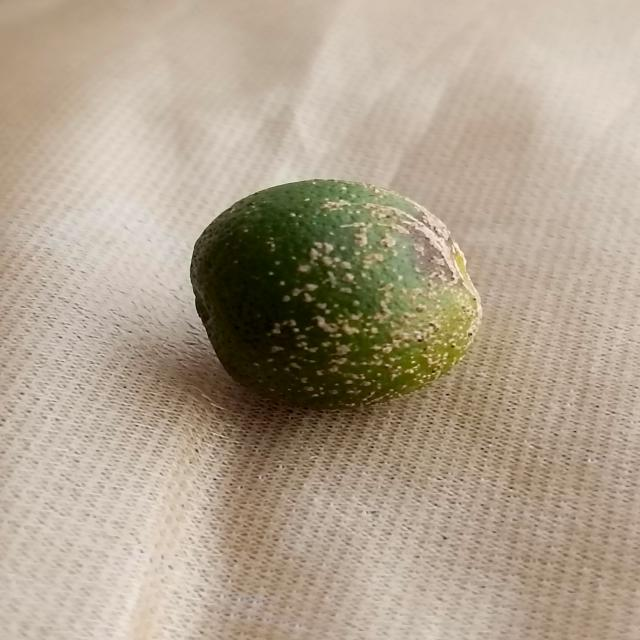scab: (166, 175, 487, 412)
